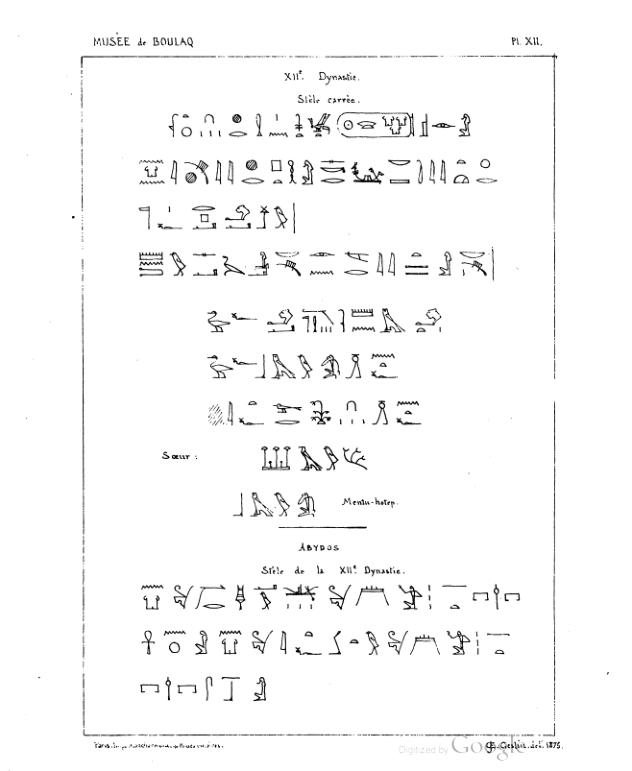circle: (334, 109, 419, 141)
